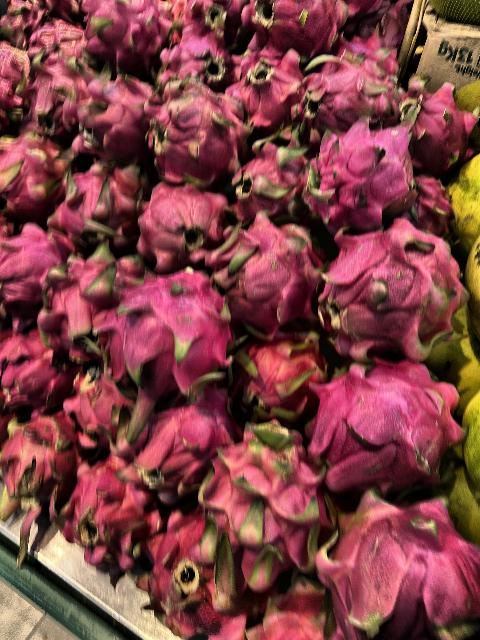buah-naga-belum-matang: (140, 73, 250, 183)
buah-naga-matang: (318, 484, 480, 640), (304, 351, 466, 504), (193, 427, 325, 598), (103, 272, 238, 426), (313, 218, 462, 346), (201, 212, 317, 334), (140, 510, 246, 640), (61, 448, 157, 584), (306, 117, 426, 225), (30, 247, 142, 353), (1, 412, 78, 542), (130, 178, 236, 266), (390, 73, 478, 174), (56, 67, 154, 157), (50, 160, 146, 246), (222, 137, 318, 221), (0, 328, 86, 416), (299, 54, 386, 140), (0, 218, 72, 320), (1, 127, 66, 223), (228, 48, 310, 120), (159, 26, 231, 84)
